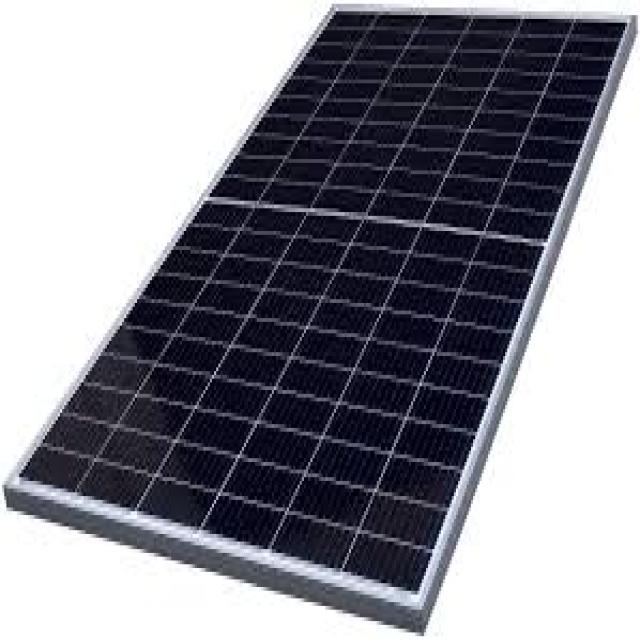clean-solar-panel: (5, 9, 636, 630)
